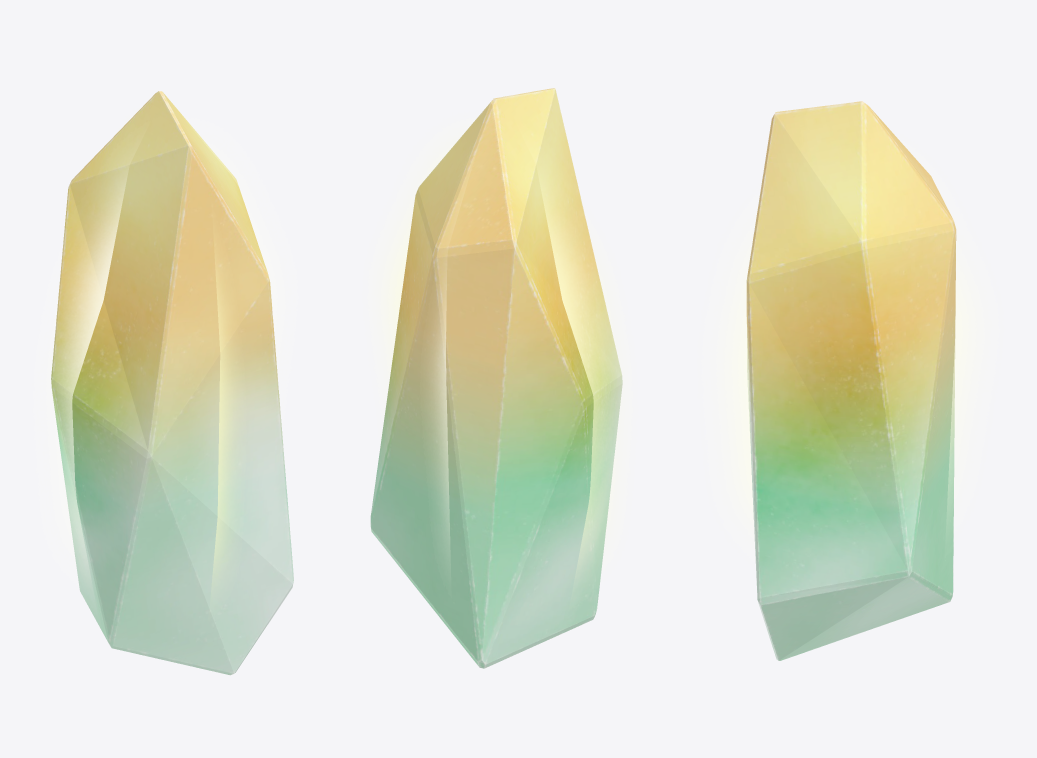
The model's file is gem_G.glb.
3 renders of one model, left to right at view 1: azimuth 30°, elevation 25°; view 2: azimuth 150°, elevation 25°; view 3: azimuth 270°, elevation 25°, orthographic. The views are drawn at different scales.
Parts seen in each view (by area): view 1: G, light-G; view 2: G, light-G; view 3: G, light-G.
Part boxes in pixels (<box>): G: <box>51,91,293,675</box>; light-G: <box>46,138,285,585</box>; G: <box>370,88,622,668</box>; light-G: <box>380,144,619,574</box>; G: <box>746,101,956,660</box>; light-G: <box>716,222,984,538</box>.
Size of the model in its own units: 3 by 5.66 by 3.
2 materials, 2 textured.
